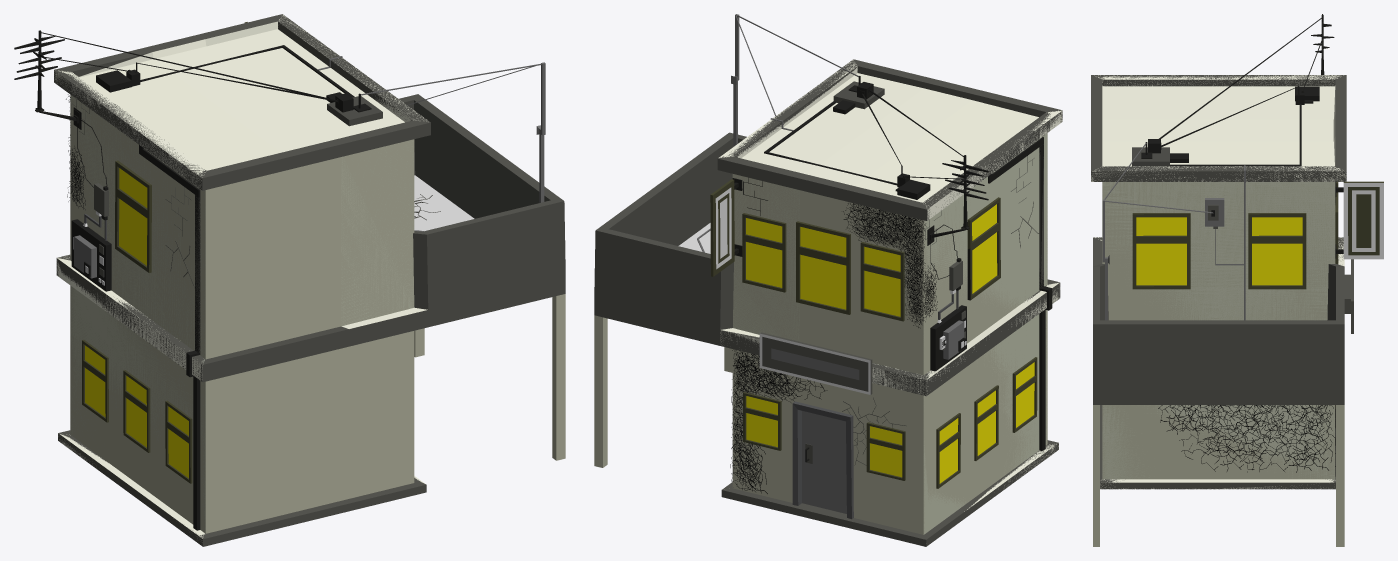
The model's file is New Building 4 A3.fbx.
3 renders of one model, left to right at view 1: azimuth 30°, elevation 25°; view 2: azimuth 150°, elevation 25°; view 3: azimuth 270°, elevation 25°, orthographic. The views are drawn at different scales.
Parts seen in each view (by area): view 1: Cube, Cube.001; view 2: Cube, Cube.001; view 3: Cube, Cube.001.
Boxes of the visible parts, box(x1,y1,x2,y2) form: Cube: box(14, 14, 565, 546); Cube.001: box(54, 14, 440, 542); Cube: box(594, 14, 1062, 546); Cube.001: box(719, 59, 1062, 534); Cube: box(1091, 14, 1383, 546); Cube.001: box(1091, 75, 1346, 489).
Bounding box in the file's own units: 529 × 515 × 372.
